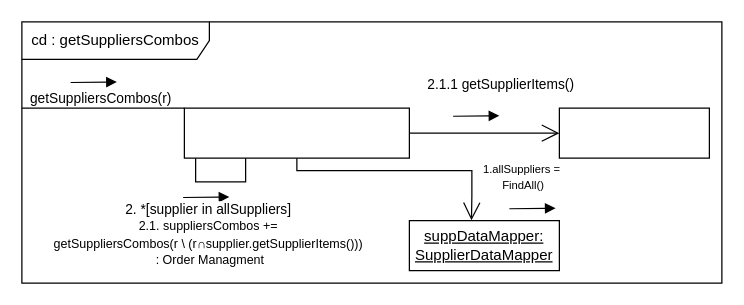
Image size: 744x305. Some labels were removed from this diagram. Here are the shapes that lost their labels. From the top down, the centre of each, then its label:
point 296,132: orderManag: OrderManagment
point 633,132: supplier : Supplier
